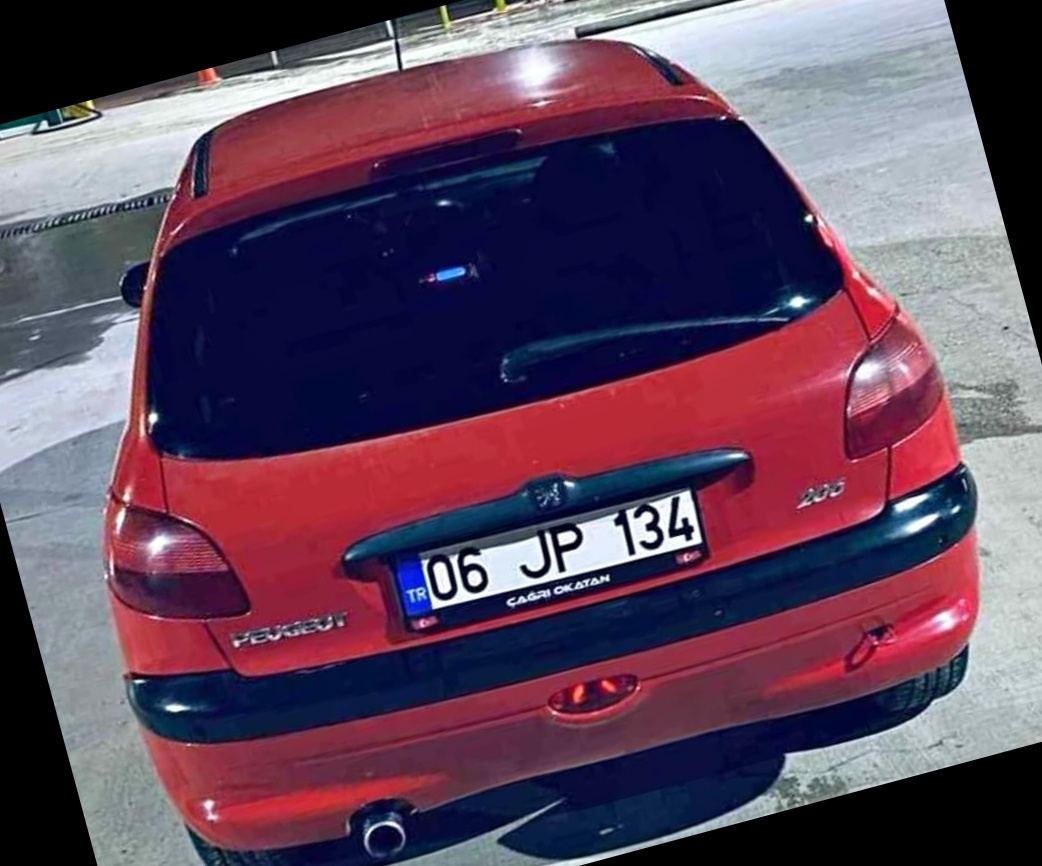plaka: (425, 489, 703, 609)
